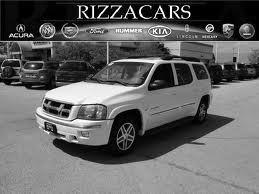car: (31, 58, 215, 158)
